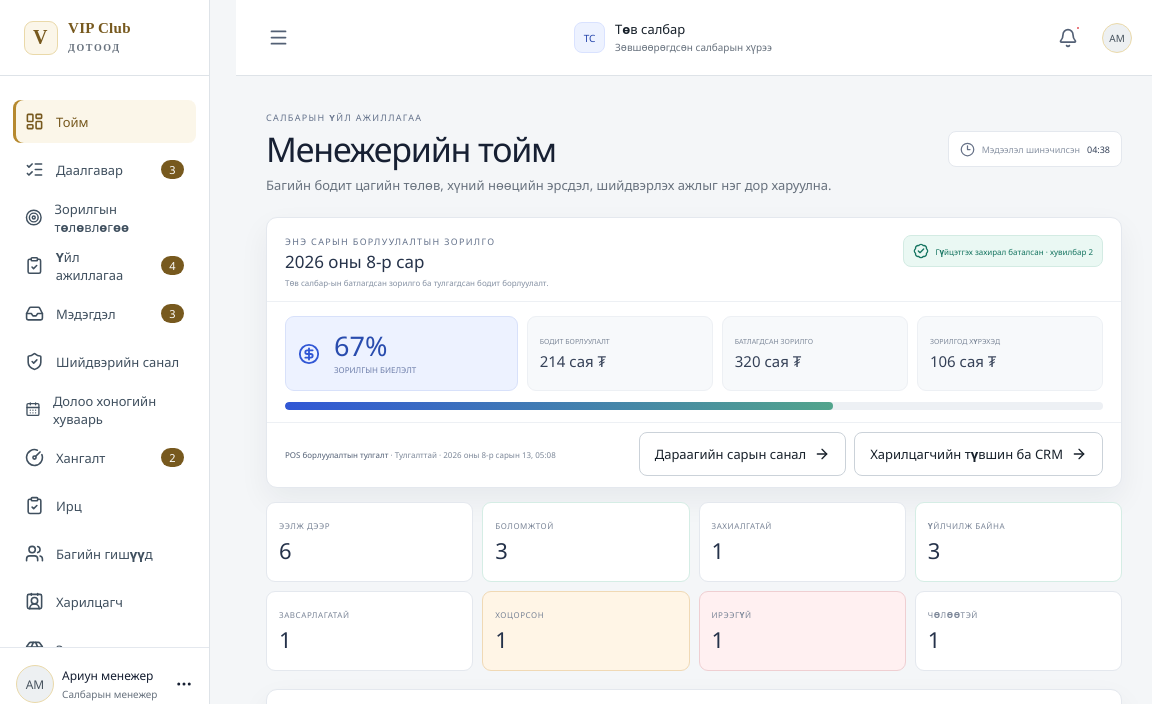
WeeklySchedulePage › edits staffing requirements and exposes the resulting audit evidence
Click the link "Долоо хоногийн хуваарь". click: click(91, 410)
box: [25,392,156,428]
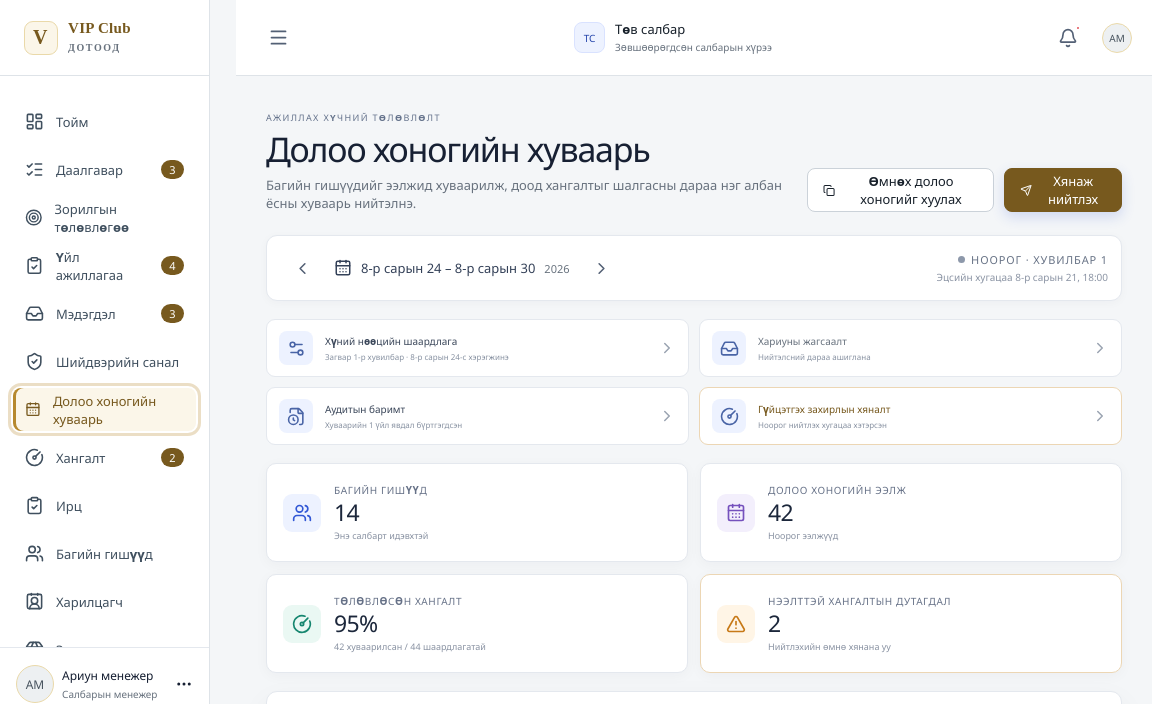
Click the button "Хүний нөөцийн шаардлага". click: click(478, 348)
box: [266,319,689,377]
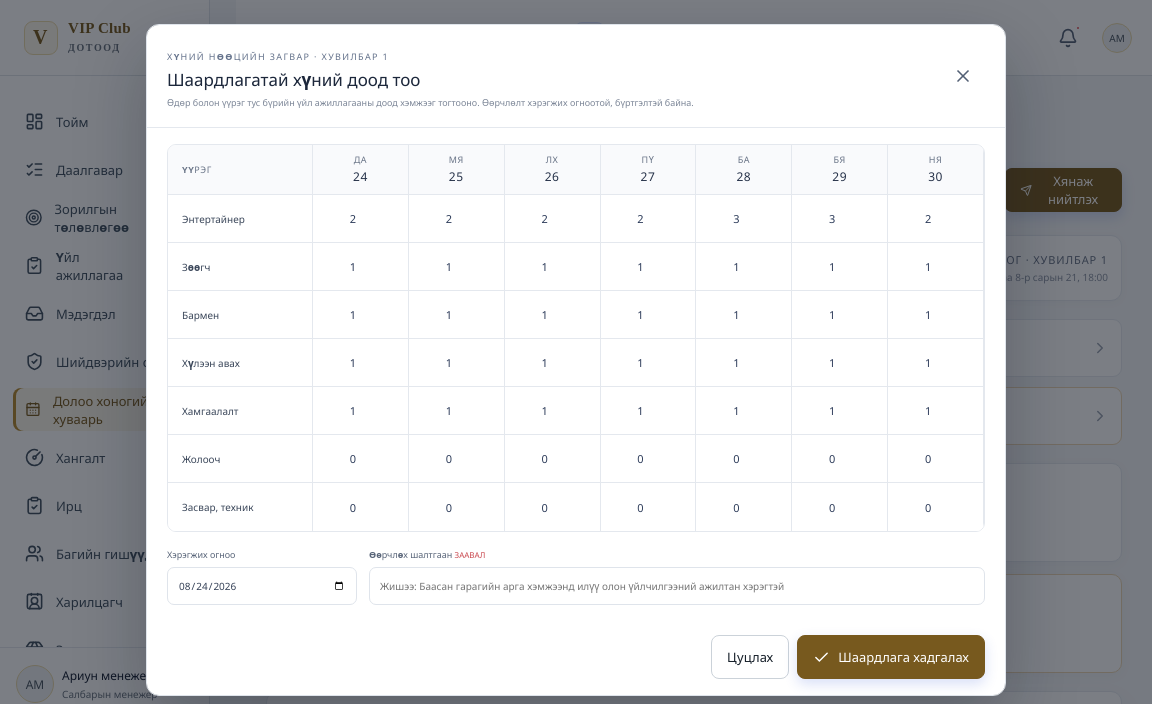
Result: the dialog "Шаардлагатай хүний доод тоо" is shown
Replace the text in the number field named "Бармен үүрэгт шаардлагатай хүний тоо" with "2". click: (361, 315)
box: [313,291,409,339]
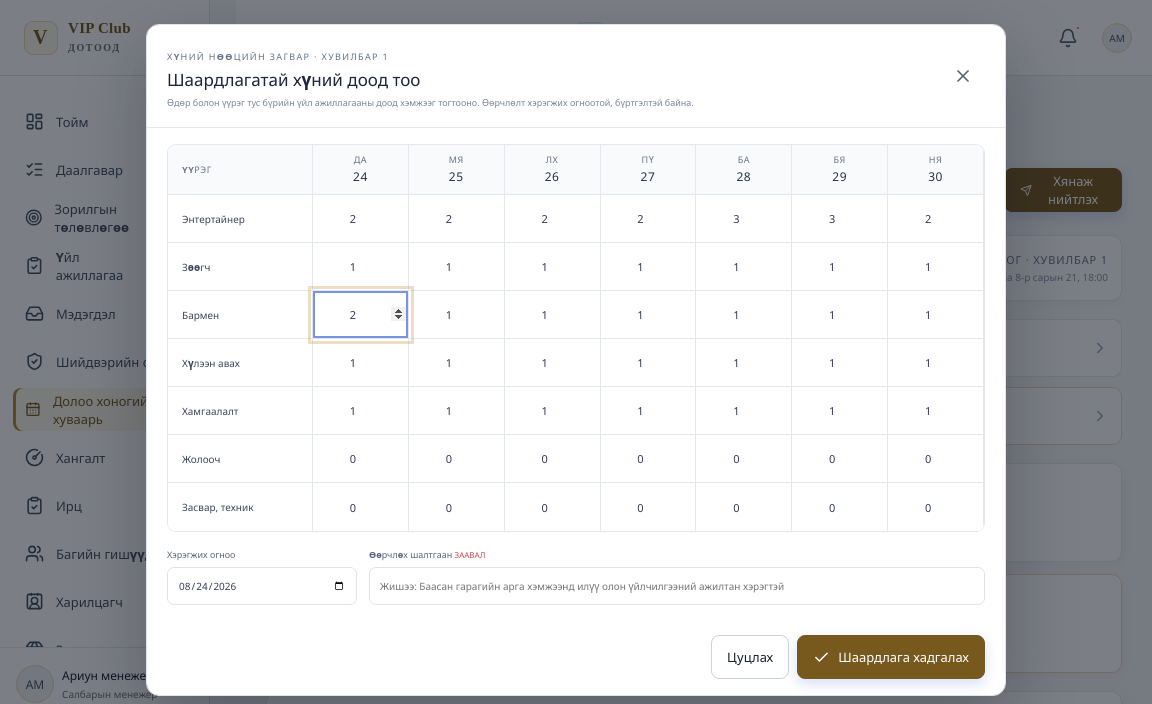
Type "Даваа гарагийн арга хэмжээнд хоёр дахь бармен хэрэгтэй." into the field labelled "Өөрчлөх шалтгаан Заавал". click: (677, 586)
box: [369,567,985,605]
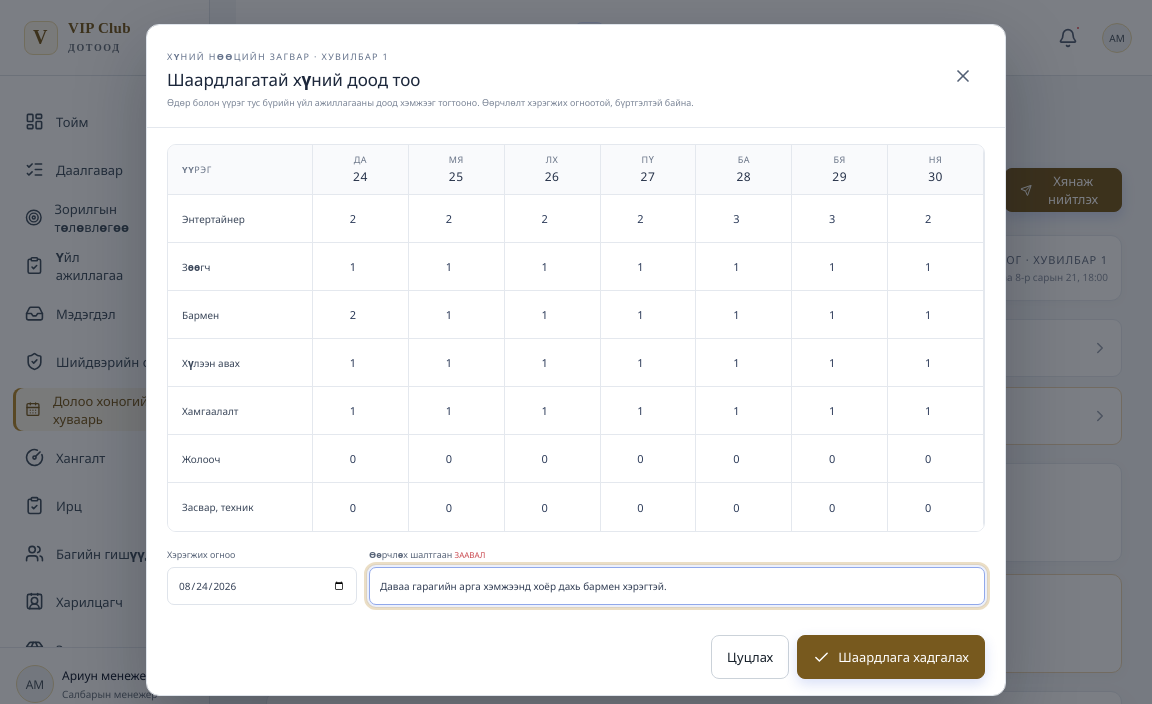
Click the button "Шаардлага хадгалах". click: click(891, 657)
box: [797,635,985,679]
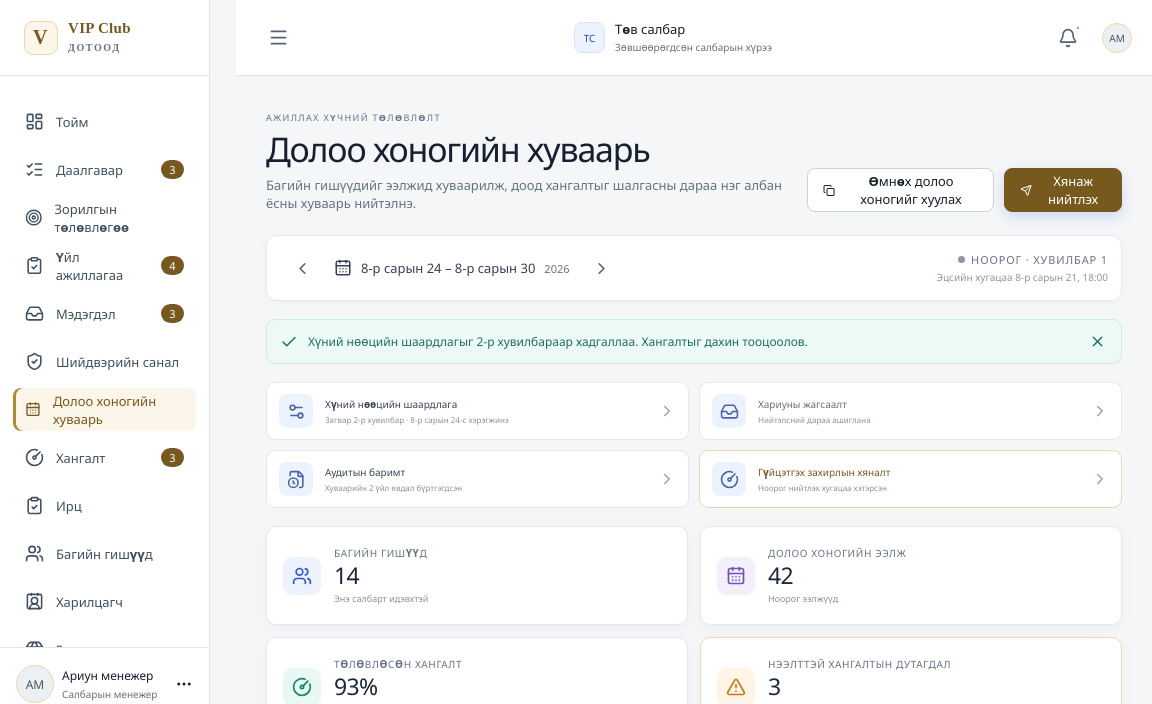
Result: the message shows "2-р хувилбараар" at [308,333,808,350]
Click the button "Аудитын баримт Хуваарийн 2 үйл явдал бүртгэгдсэн". click: click(296, 479)
box: [266,450,689,508]
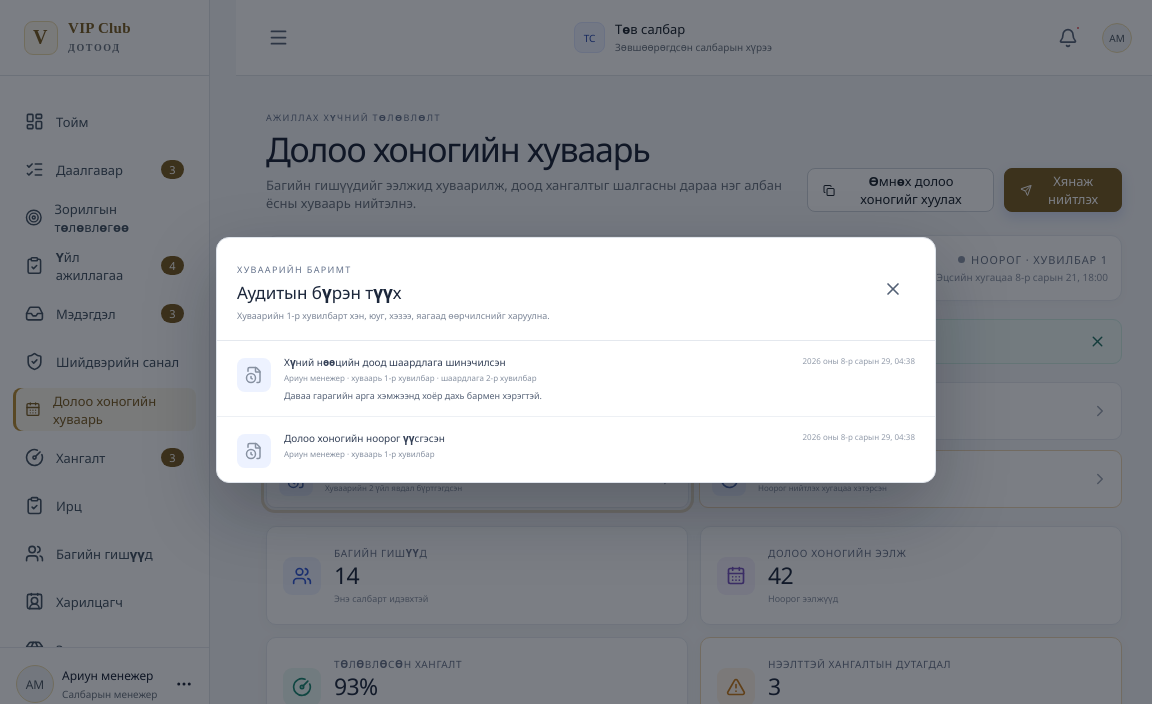
Result: the dialog "Аудитын бүрэн түүх" shows "Хүний нөөцийн доод шаардлага шинэчилсэн" at [284,355,506,369]
